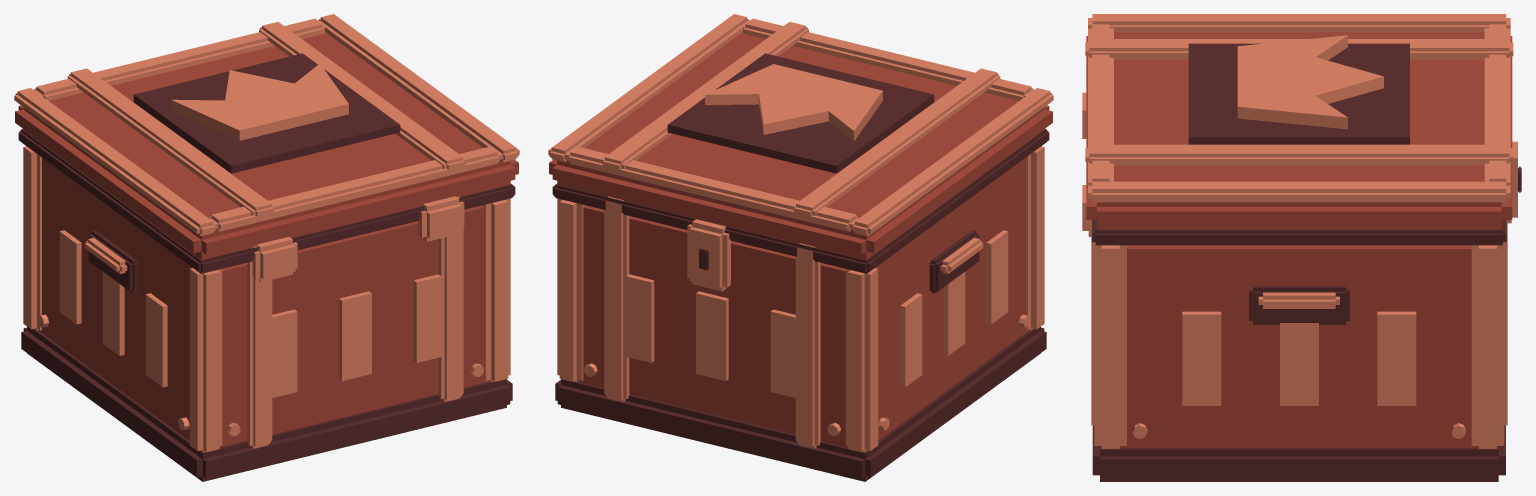
Rendered from crate_rubi.fbx.
3 views of the same model, side by side, from view 1: azimuth 30°, elevation 25°; view 2: azimuth 150°, elevation 25°; view 3: azimuth 270°, elevation 25° (orthographic). The views are drawn at different scales.
Parts seen in each view (by area): view 1: crate_rubi_caixa; view 2: crate_rubi_caixa; view 3: crate_rubi_caixa.
Boxes of the visible parts, x1=… form: crate_rubi_caixa: x1=14, y1=14, x2=519, y2=481; crate_rubi_caixa: x1=548, y1=14, x2=1053, y2=481; crate_rubi_caixa: x1=1082, y1=14, x2=1521, y2=481.
Bounding box in the file's own units: 2.68 × 2.18 × 2.7.
Materials: 1 (1 with a texture image).
